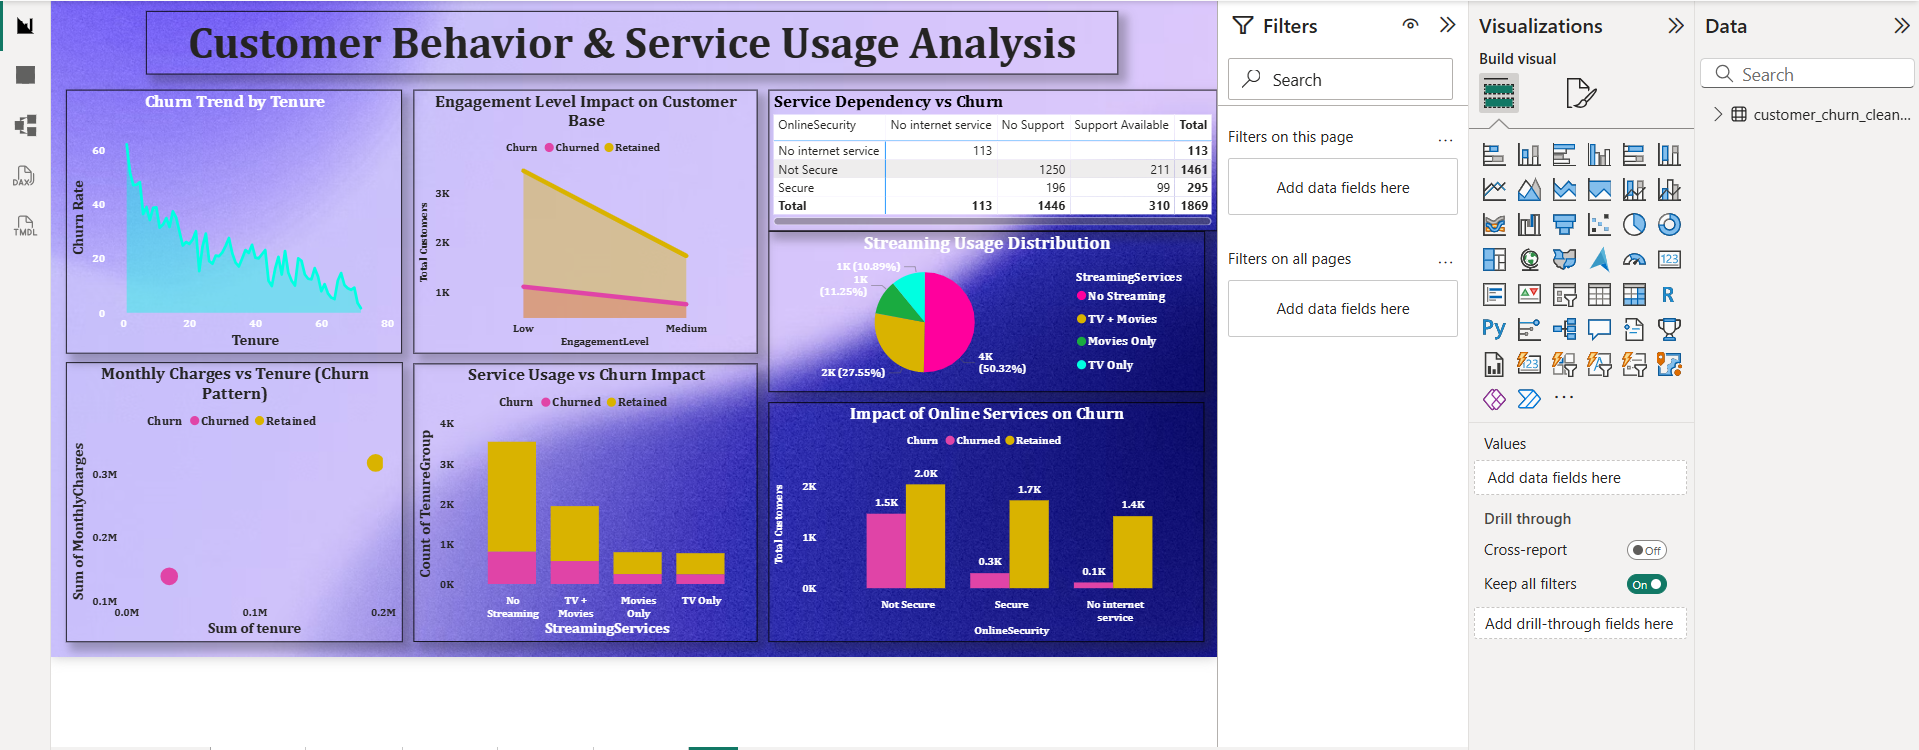

The dashboard page shown, as its layout file describes it:
{"tool":"powerbi","page":{"name":"Page 2","canvas":[1280,720],"ordinal":1},"visuals":[{"type":"textbox","box":[104.3,11,1067.6,70],"z":0},{"type":"lineChart","title":"Churn Trend by Tenure","fields":{"Category":["customer_churn_cleaned.tenure"],"Y":["customer_churn_cleaned.Churn Rate"]},"box":[16.5,97.4,369.1,289.5],"z":1000},{"type":"scatterChart","title":"Monthly Charges vs Tenure (Churn Pattern)","fields":{"X":["Sum(customer_churn_cleaned.tenure)"],"Series":["customer_churn_cleaned.Churn"],"Y":["Sum(customer_churn_cleaned.MonthlyCharges)"]},"box":[17,396.1,369.2,307],"z":2000},{"type":"areaChart","title":"Engagement Level Impact on Customer Base","fields":{"Category":["customer_churn_cleaned.EngagementLevel"],"Y":["customer_churn_cleaned.Total Customers"],"Series":["customer_churn_cleaned.Churn"]},"box":[397.9,97.4,377.4,289.5],"z":3000},{"type":"columnChart","title":"Service Usage vs Churn Impact","fields":{"Category":["customer_churn_cleaned.StreamingServices"],"Series":["customer_churn_cleaned.Churn"],"Y":["CountNonNull(customer_churn_cleaned.TenureGroup)"]},"box":[397.5,397.5,377.7,305.6],"z":4000},{"type":"pivotTable","title":"Service Dependency vs Churn","fields":{"Rows":["customer_churn_cleaned.OnlineSecurity"],"Columns":["customer_churn_cleaned.TechSupport"],"Values":["customer_churn_cleaned.Churned Customers"]},"box":[787.7,97.4,492.6,155.1],"z":5000},{"type":"pieChart","title":"Streaming Usage Distribution","fields":{"Category":["customer_churn_cleaned.StreamingServices"],"Y":["customer_churn_cleaned.Total Customers"]},"box":[787.7,252.5,478.9,177],"z":6000},{"type":"clusteredColumnChart","title":"Impact of Online Services on Churn","fields":{"Series":["customer_churn_cleaned.Churn"],"Category":["customer_churn_cleaned.OnlineSecurity"],"Y":["customer_churn_cleaned.Total Customers"]},"box":[788,440,478.2,263.1],"z":7000}]}

Visuals, with their boxes on the page's 1280x720 design canvas (x1, y1, x2, y2). These are canvas units, not pixel positions in the 1919x750 screenshot, which may show the page scaled, cropped or inside an application window:
textbox: 104 11 1172 81
"Churn Trend by Tenure" lineChart: 16 97 386 387
"Monthly Charges vs Tenure (Churn Pattern)" scatterChart: 17 396 386 703
"Engagement Level Impact on Customer Base" areaChart: 398 97 775 387
"Service Usage vs Churn Impact" columnChart: 398 398 775 703
"Service Dependency vs Churn" pivotTable: 788 97 1280 252
"Streaming Usage Distribution" pieChart: 788 252 1267 430
"Impact of Online Services on Churn" clusteredColumnChart: 788 440 1266 703
